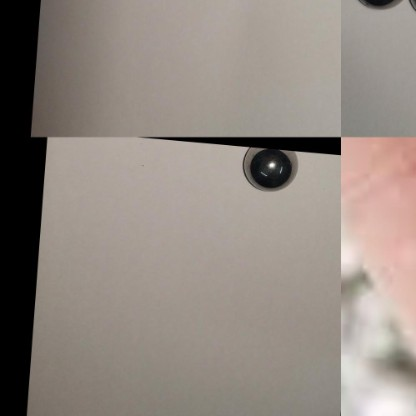ironball: (239, 145, 296, 193)
